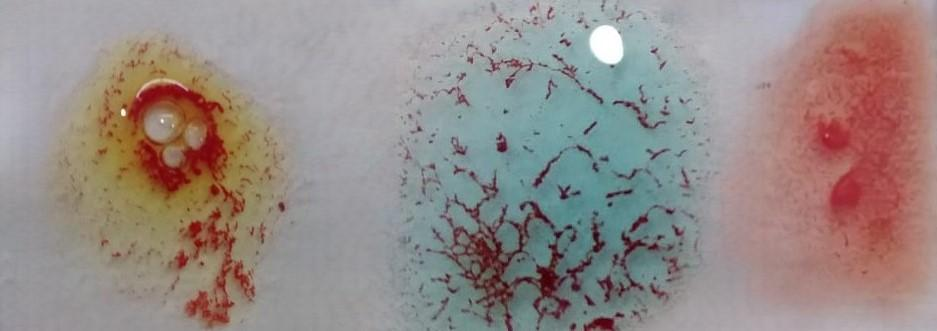A: (401, 7, 699, 330)
B: (64, 34, 277, 331)
D: (758, 6, 932, 309)
